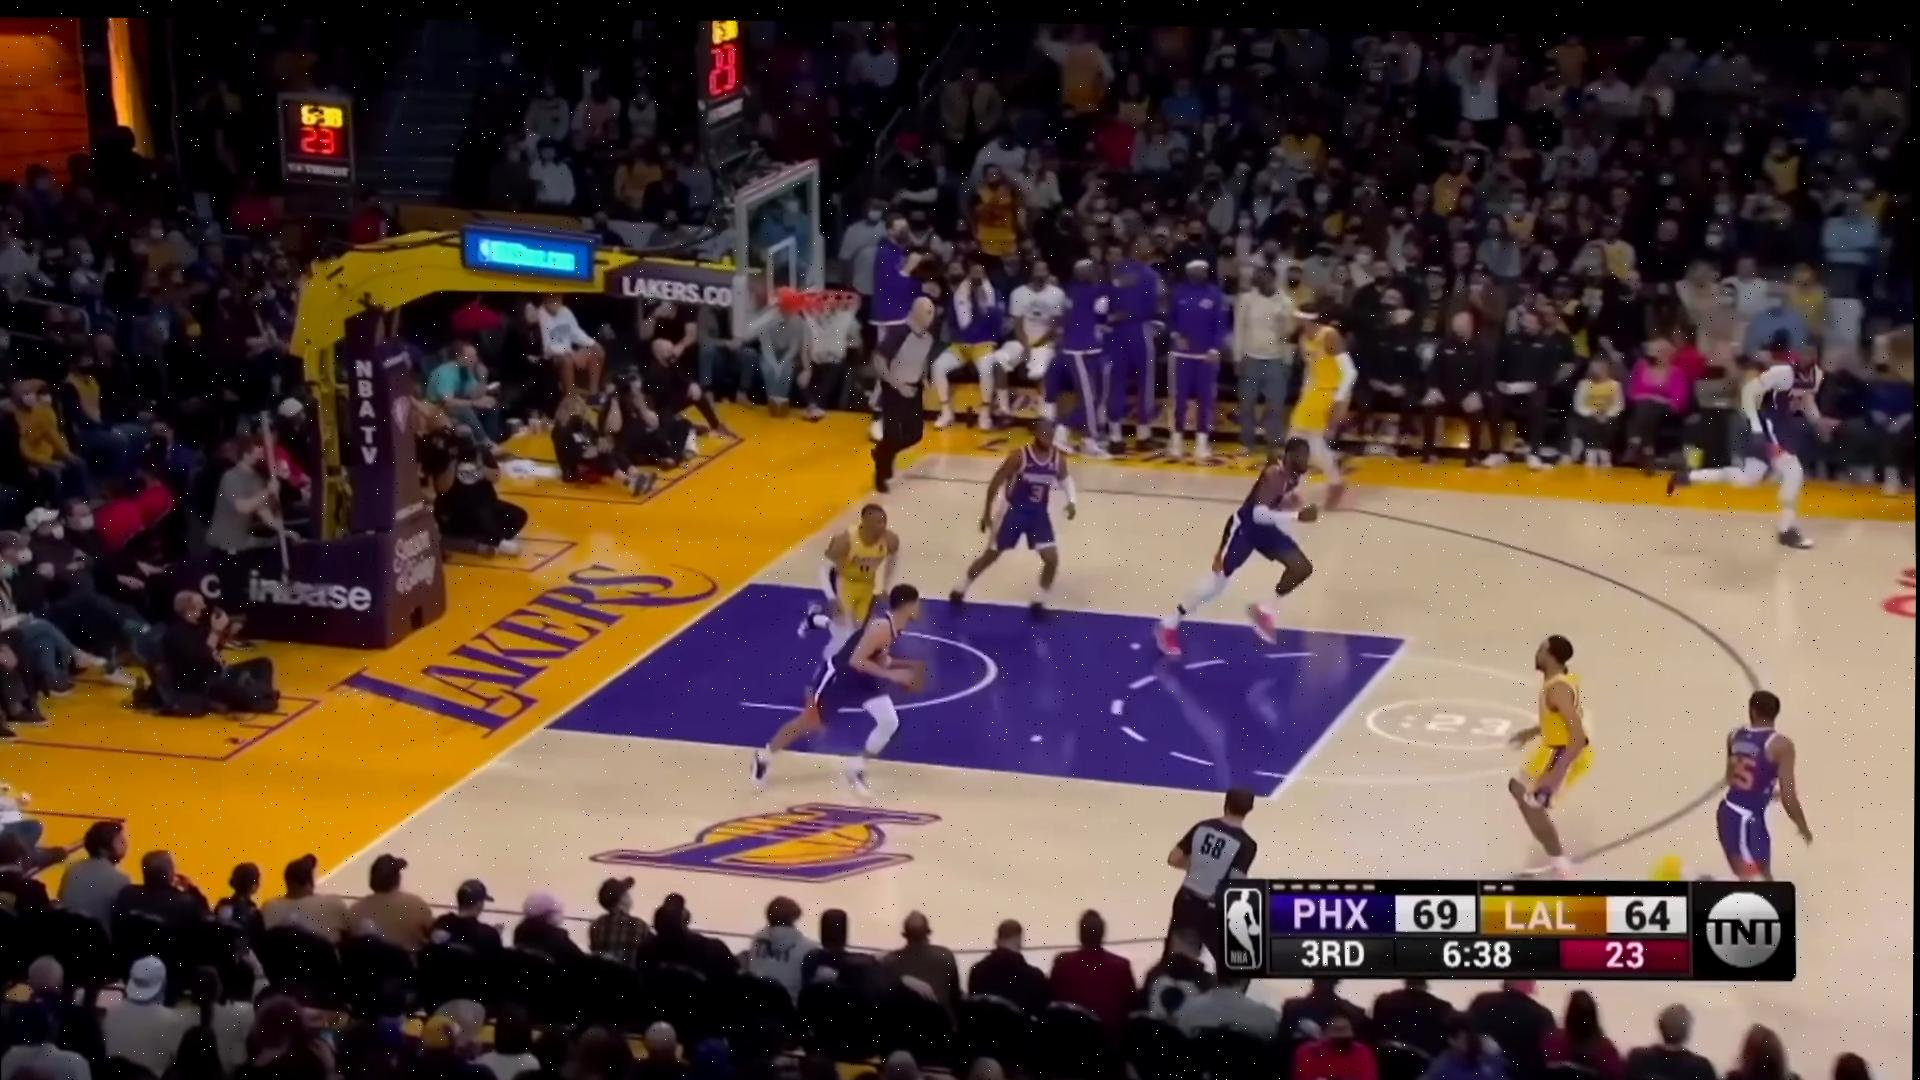no_foul: (756, 496, 953, 794)
